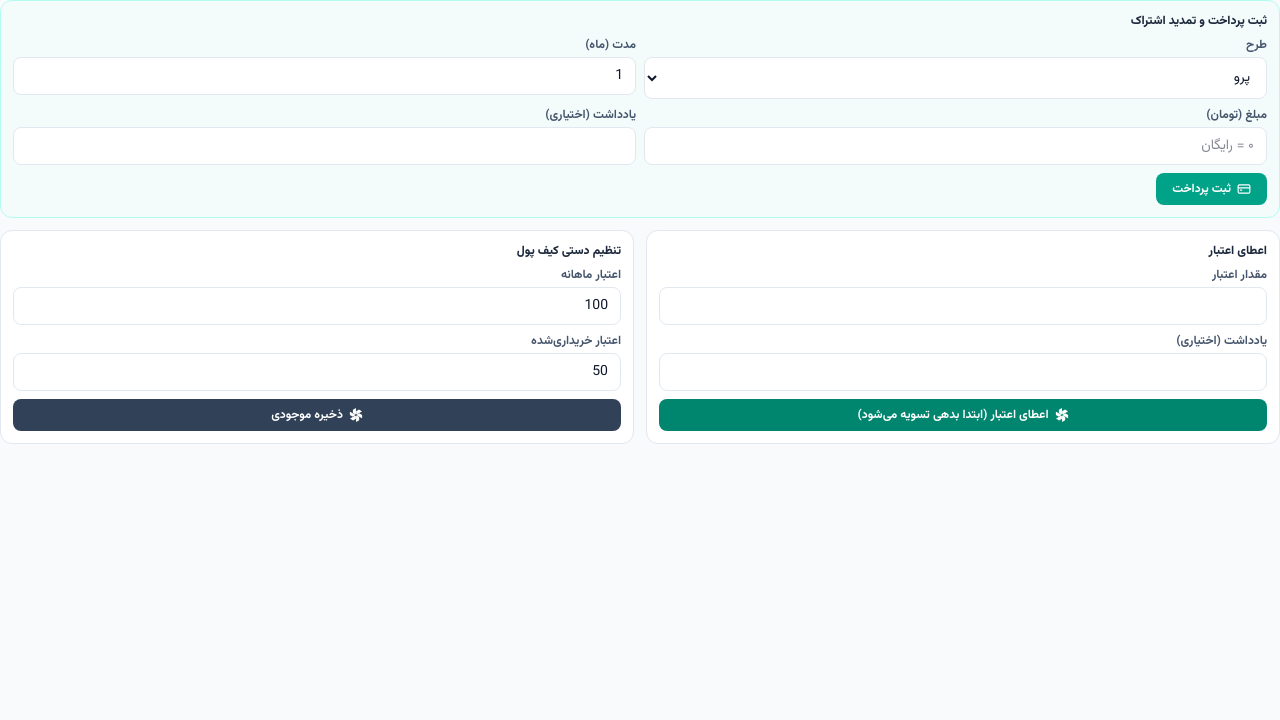
Test: [component] BillingForms › shows error toast when payment fails
Click the button "ثبت پرداخت". click: (1212, 189)
box: [1156,173,1267,205]
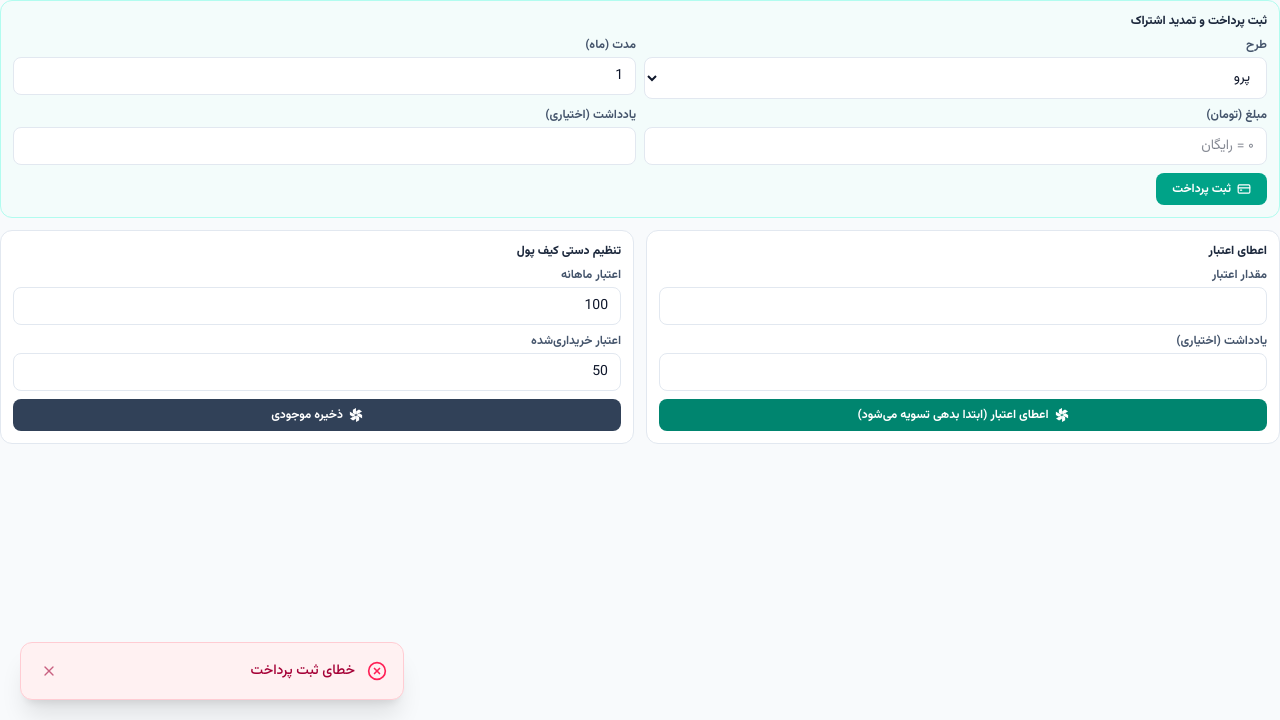
Check: the text "خطای ثبت پرداخت" is shown, box [251,661,355,681]
